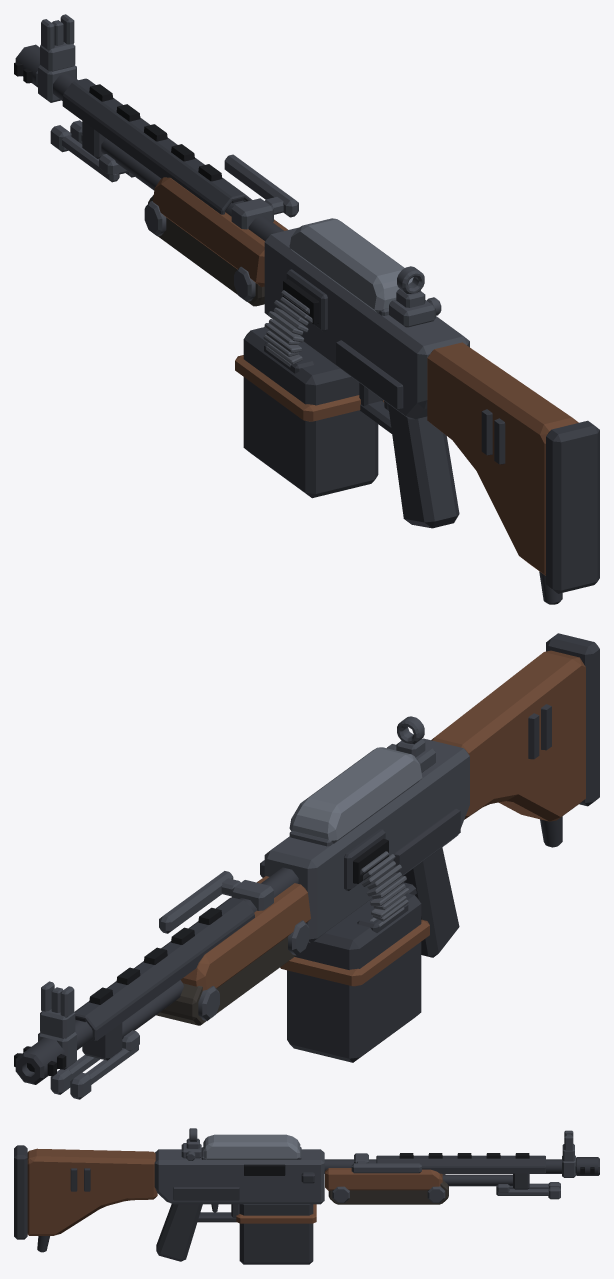
File: w_lmg.glb
3 views of the same model, one above another, from view 1: azimuth 30°, elevation 25°; view 2: azimuth 150°, elevation 25°; view 3: azimuth 270°, elevation 25° (orthographic). The views are drawn at different scales.
Parts seen in each view (by area): view 1: stock_wzA, mag_wzB, body_wzB, stock_wzB, lmg_heat_wzN, grip_wzB, cover_wzA, sander_wzA, sight_wzN, barrel_wzB.001, barrel_wzB, trim_wzN (+7 smaller); view 2: stock_wzA, mag_wzB, body_wzB, cover_wzA, lmg_heat_wzN, sander_wzA, barrel_wzB.001, barrel_wzB, sight_wzN, grip_wzB, stock_wzB, belt_wzN (+6 smaller); view 3: stock_wzA, body_wzB, mag_wzB, lmg_heat_wzN, cover_wzA, sander_wzA, barrel_wzB, grip_wzB, barrel_wzB.001, belt_wzN, stock_wzB, sight_wzN (+6 smaller).
Boxes of the visible parts, x1,y1,x2,y2 form: stock_wzA: [427, 342, 578, 575]; mag_wzB: [243, 327, 378, 498]; body_wzB: [264, 227, 469, 419]; stock_wzB: [546, 420, 599, 593]; lmg_heat_wzN: [62, 78, 251, 214]; grip_wzB: [388, 404, 459, 528]; cover_wzA: [289, 218, 420, 312]; sander_wzA: [153, 177, 287, 287]; sight_wzN: [38, 14, 441, 327]; barrel_wzB.001: [50, 120, 298, 229]; barrel_wzB: [15, 44, 283, 240]; trim_wzN: [14, 61, 319, 324]; stock_wzA: [431, 650, 585, 821]; mag_wzB: [287, 893, 421, 1062]; body_wzB: [264, 738, 469, 942]; cover_wzA: [289, 747, 422, 843]; lmg_heat_wzN: [74, 897, 254, 1041]; sander_wzA: [181, 876, 310, 990]; barrel_wzB.001: [50, 871, 273, 1099]; barrel_wzB: [15, 867, 298, 1084]; sight_wzN: [38, 716, 435, 1069]; grip_wzB: [403, 847, 459, 957]; stock_wzB: [546, 633, 599, 806]; belt_wzN: [156, 936, 295, 1025]; stock_wzA: [27, 1148, 157, 1235]; body_wzB: [154, 1149, 324, 1204]; mag_wzB: [239, 1204, 313, 1264]; lmg_heat_wzN: [376, 1155, 545, 1173]; cover_wzA: [203, 1134, 300, 1159]; sander_wzA: [325, 1168, 442, 1190]; barrel_wzB: [324, 1157, 599, 1189]; grip_wzB: [156, 1204, 202, 1261]; barrel_wzB.001: [351, 1153, 560, 1199]; belt_wzN: [328, 1174, 448, 1204]; stock_wzB: [14, 1145, 27, 1239]; sight_wzN: [181, 1128, 575, 1177].
Size of the model in its own units: 0.152 by 0.3564 by 1.42.
